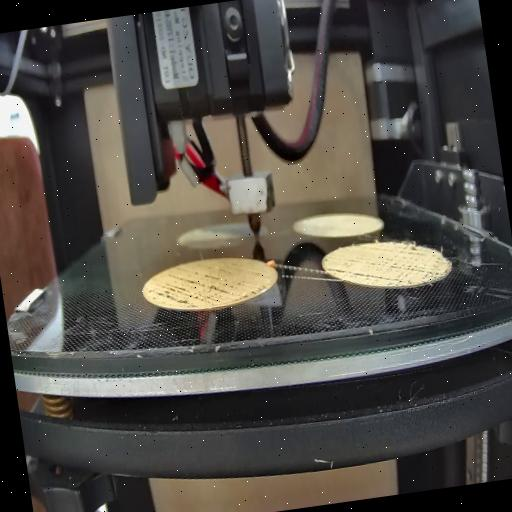under_extrusion: (144, 265, 268, 311), (350, 237, 444, 294), (324, 258, 349, 280)
